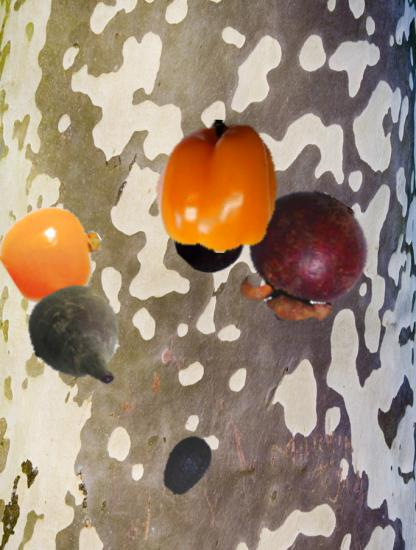Avocado: (155, 433, 220, 498)
Beetroot: (22, 280, 137, 395)
Cherry: (172, 202, 245, 275)
Mangostan: (235, 190, 371, 326)
Pepper: (150, 120, 283, 253)
Physalis: (3, 205, 103, 305)
